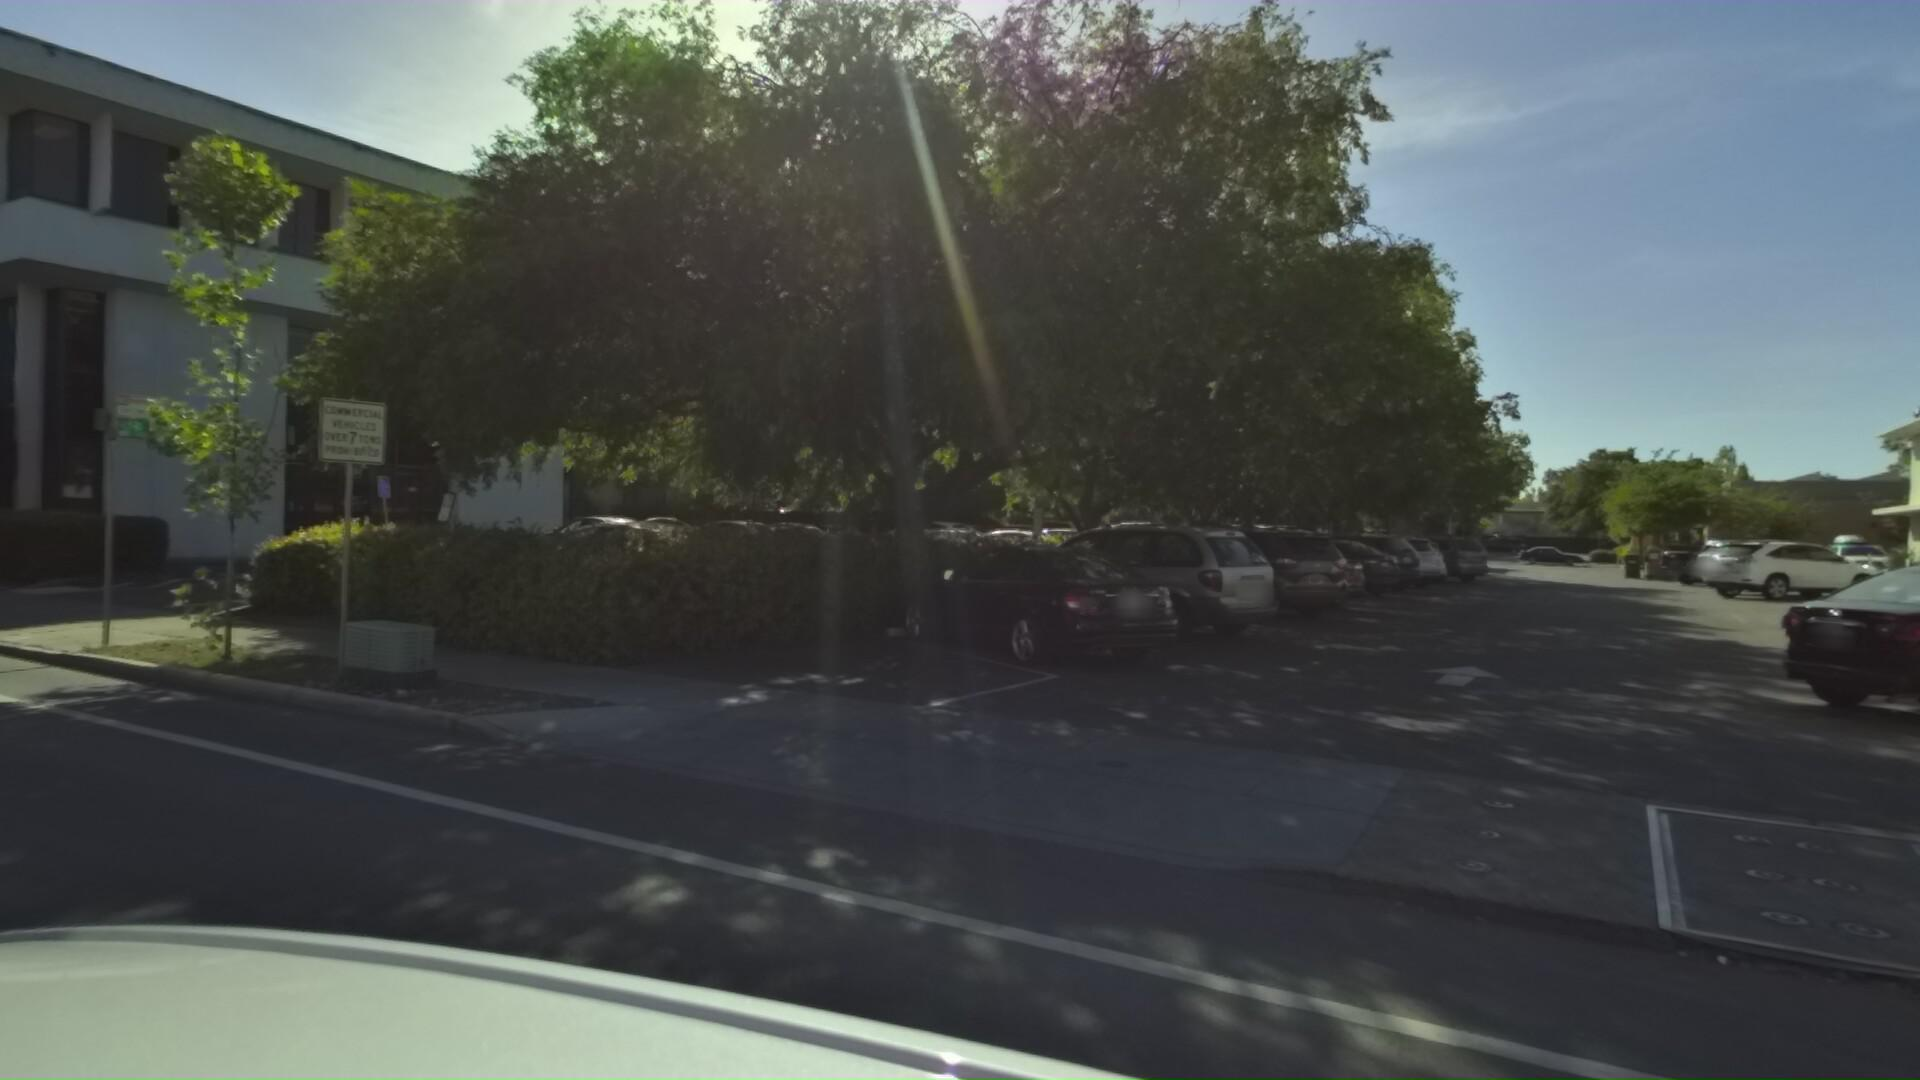car: (869, 535, 1174, 696), (964, 514, 1276, 659), (1712, 564, 1920, 757), (1505, 538, 1581, 567)
